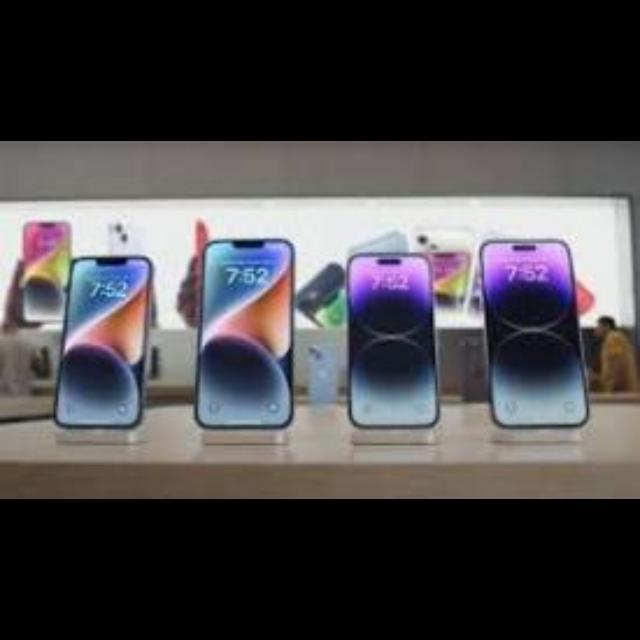Phone: (472, 235, 590, 430), (202, 241, 296, 431), (344, 253, 442, 432), (52, 253, 148, 429)
